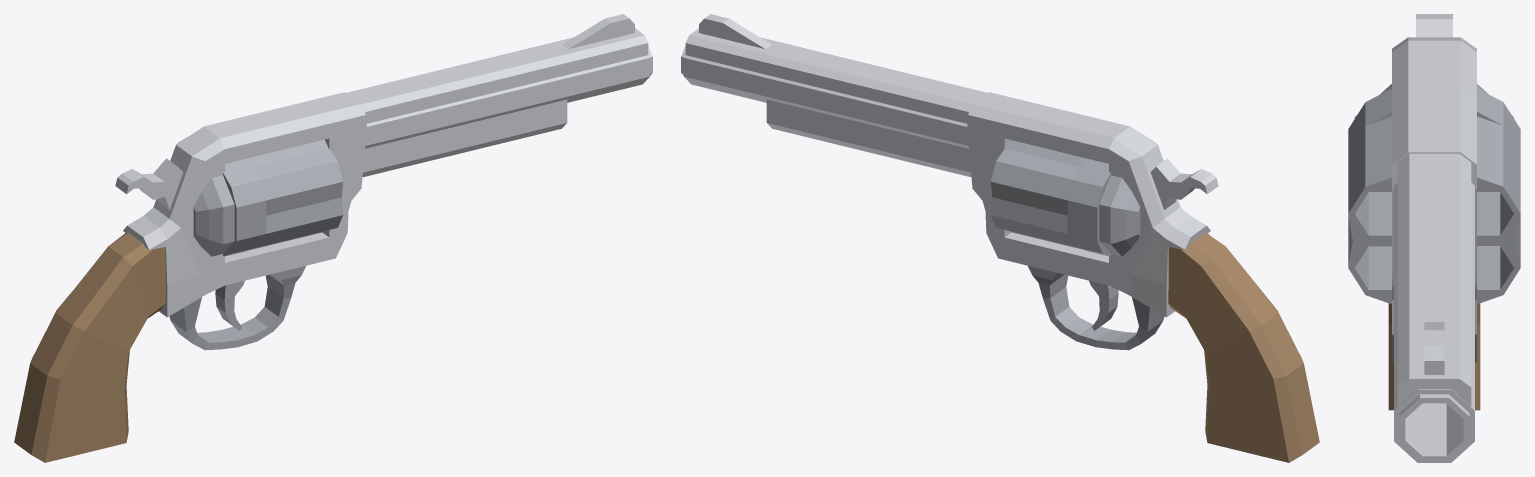
The model's file is Revolver_1.glb.
3 views of the same model, side by side, from view 1: azimuth 30°, elevation 25°; view 2: azimuth 150°, elevation 25°; view 3: azimuth 270°, elevation 25° (orthographic). The views are drawn at different scales.
Parts seen in each view (by area): view 1: Revolver_1; view 2: Revolver_1; view 3: Revolver_1.
Boxes of the visible parts, x1=… form: Revolver_1: x1=14, y1=14, x2=652, y2=462; Revolver_1: x1=681, y1=14, x2=1319, y2=462; Revolver_1: x1=1348, y1=14, x2=1520, y2=462.
Size of the model in its own units: 1.98 by 0.8898 by 0.2944.
